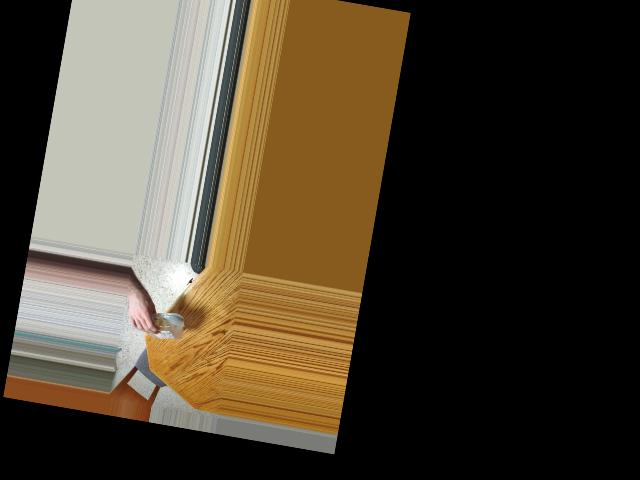cheese: (134, 303, 181, 344)
